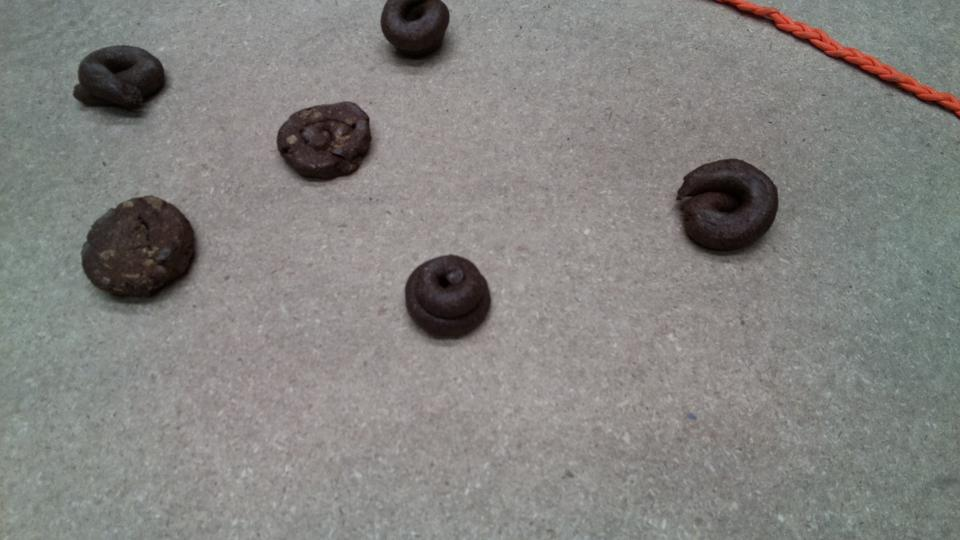poop: (76, 190, 199, 308), (672, 156, 781, 259), (274, 98, 375, 184), (401, 251, 493, 343), (69, 40, 170, 116), (376, 1, 453, 64)
rope: (734, 1, 960, 108)
